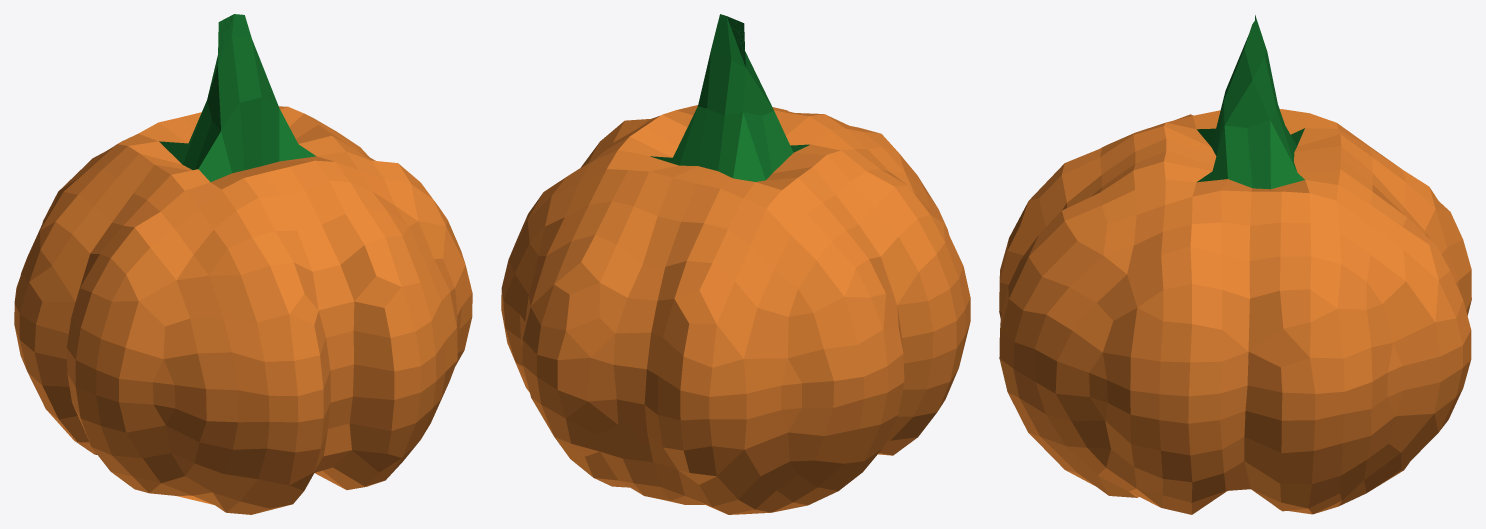
The model's file is Pumpkin2Color.fbx.
The picture shows the model from 3 angles, left to right: view 1: azimuth 30°, elevation 25°; view 2: azimuth 150°, elevation 25°; view 3: azimuth 270°, elevation 25°; orthographic projection. The views are drawn at different scales.
Visible parts, largest first — view 1: Group14.001; view 2: Group14.001; view 3: Group14.001.
Boxes of the visible parts, x1,y1,x2,y2 form: Group14.001: (14, 14, 472, 514); Group14.001: (501, 14, 970, 514); Group14.001: (999, 15, 1471, 514).
Size of the model in its own units: 301 by 333 by 313.
